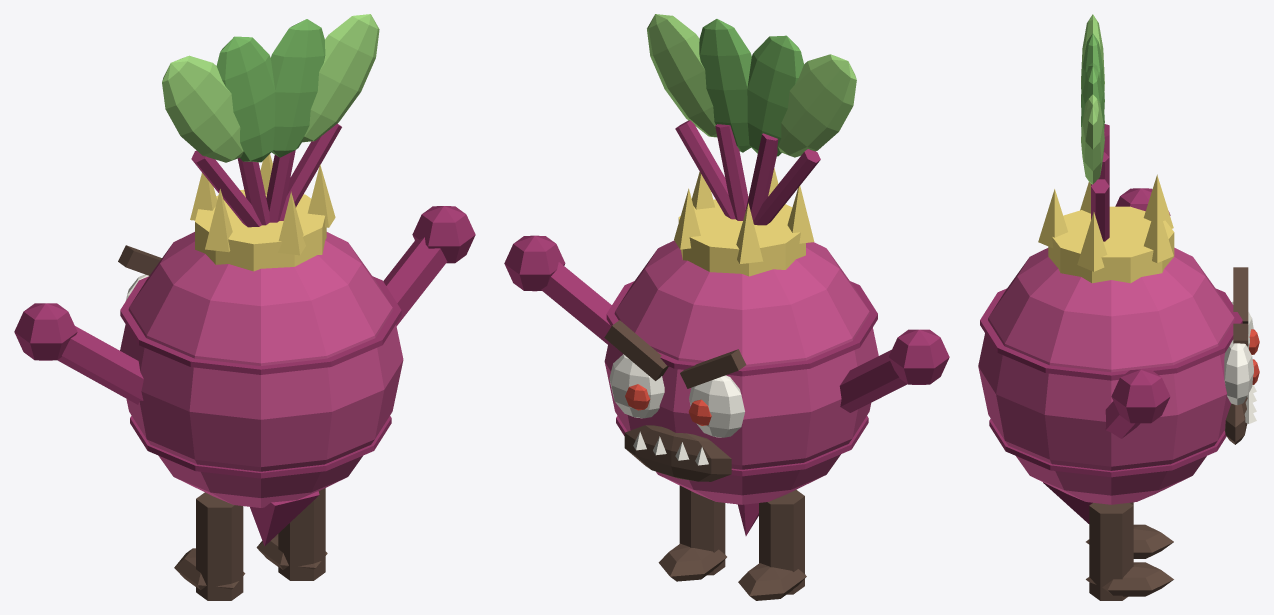
The model's file is BeetBoss.fbx.
3 views of the same model, side by side, from view 1: azimuth 30°, elevation 25°; view 2: azimuth 150°, elevation 25°; view 3: azimuth 270°, elevation 25° (orthographic). The views are drawn at different scales.
Visible parts, largest first — view 1: BeetBoss; view 2: BeetBoss; view 3: BeetBoss.
Boxes of the visible parts, bbox=[...] form: BeetBoss: bbox=[14, 14, 475, 600]; BeetBoss: bbox=[504, 14, 949, 600]; BeetBoss: bbox=[978, 14, 1259, 600].
Size of the model in its own units: 3.51 by 4.22 by 2.06.
